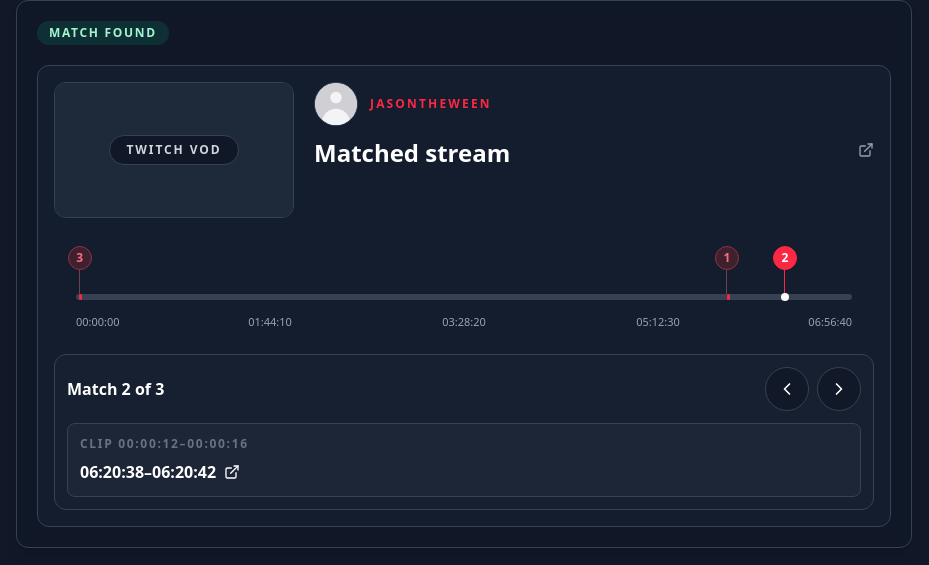
Scenario: SearchResultCard › numbers and traverses in clip order while projecting markers into VOD chronology
What coordinates should you click on to do the following:
click the button named "Next match"
I would click on:
 (839, 389)
Its box is [817,367,861,411].
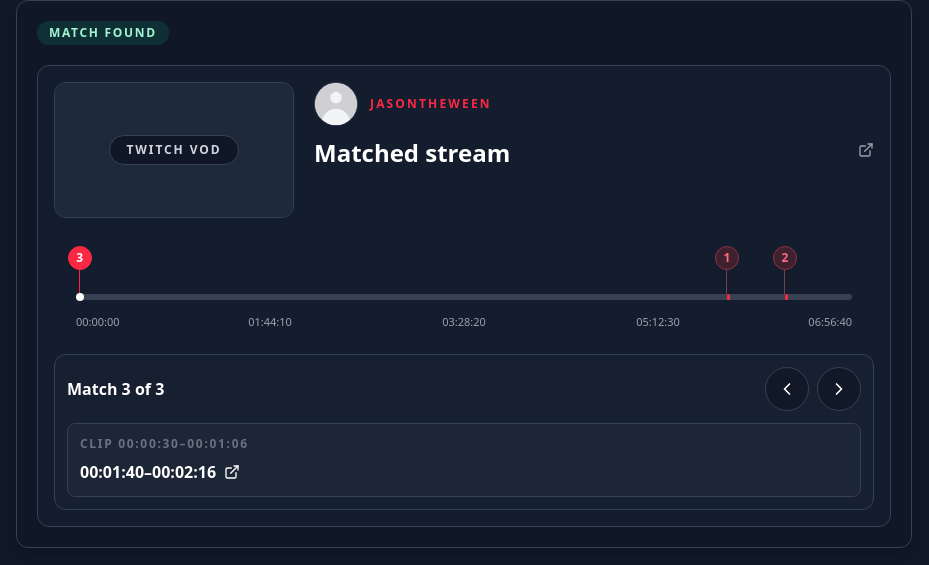
Expected: the text "Match 3 of 3" is shown, [67,378,164,400]
Expected: the link "00:01:40–00:02:16" is shown, [80,461,240,483]
